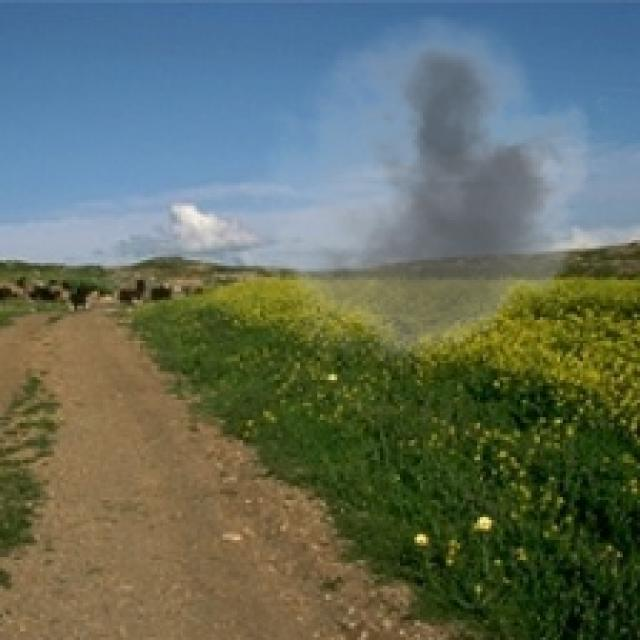Smoke: (237, 14, 609, 377)
